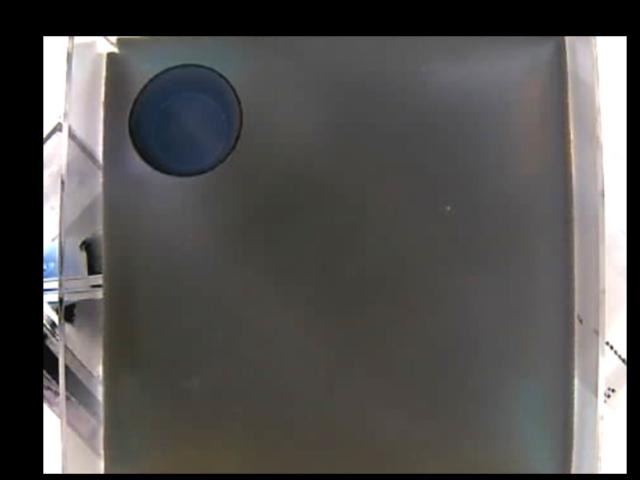Cup: (126, 61, 248, 182)
